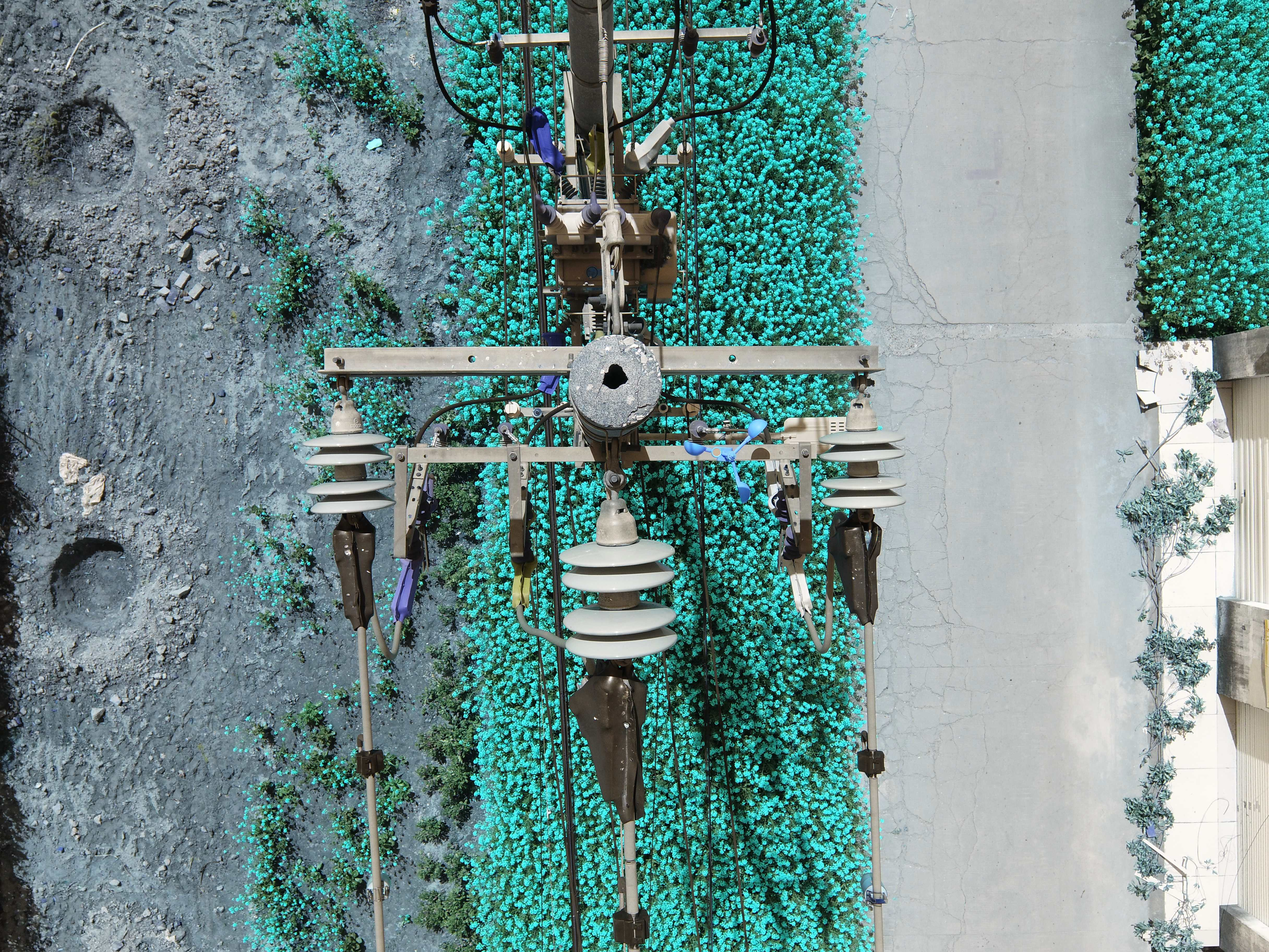severe_soiling_no_discharge_whole: (532, 407, 544, 419)
